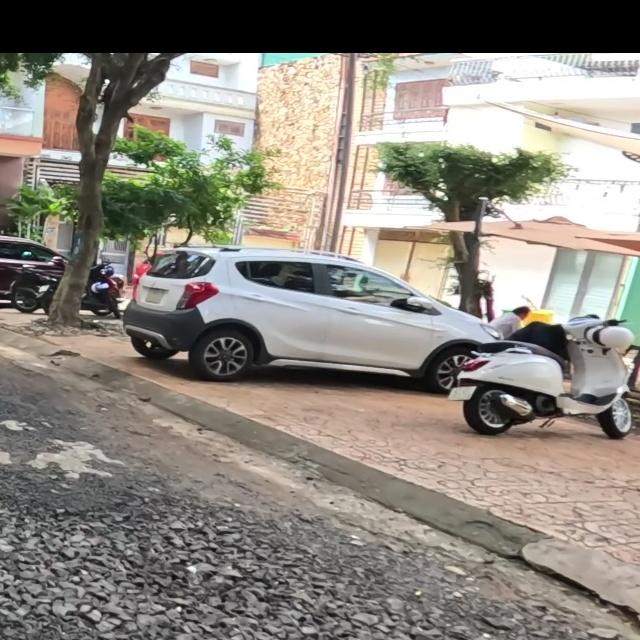license-plate: (446, 384, 477, 401)
